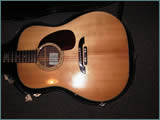guitar: (17, 11, 135, 103)
